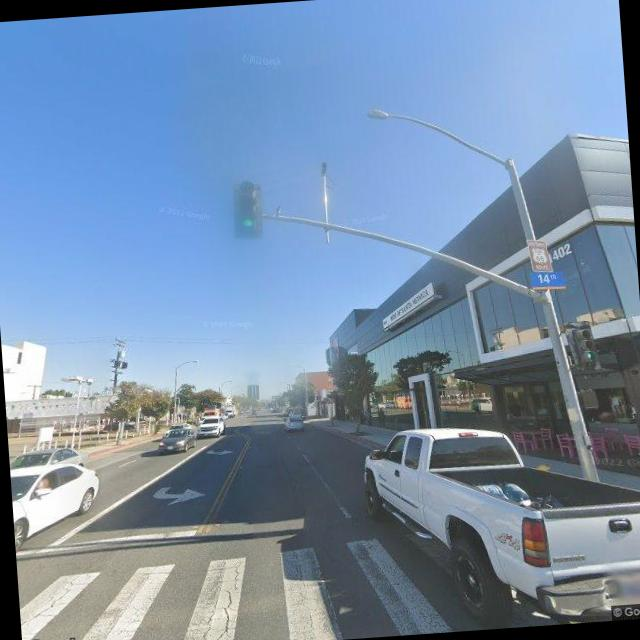crack: (176, 554, 255, 640)
